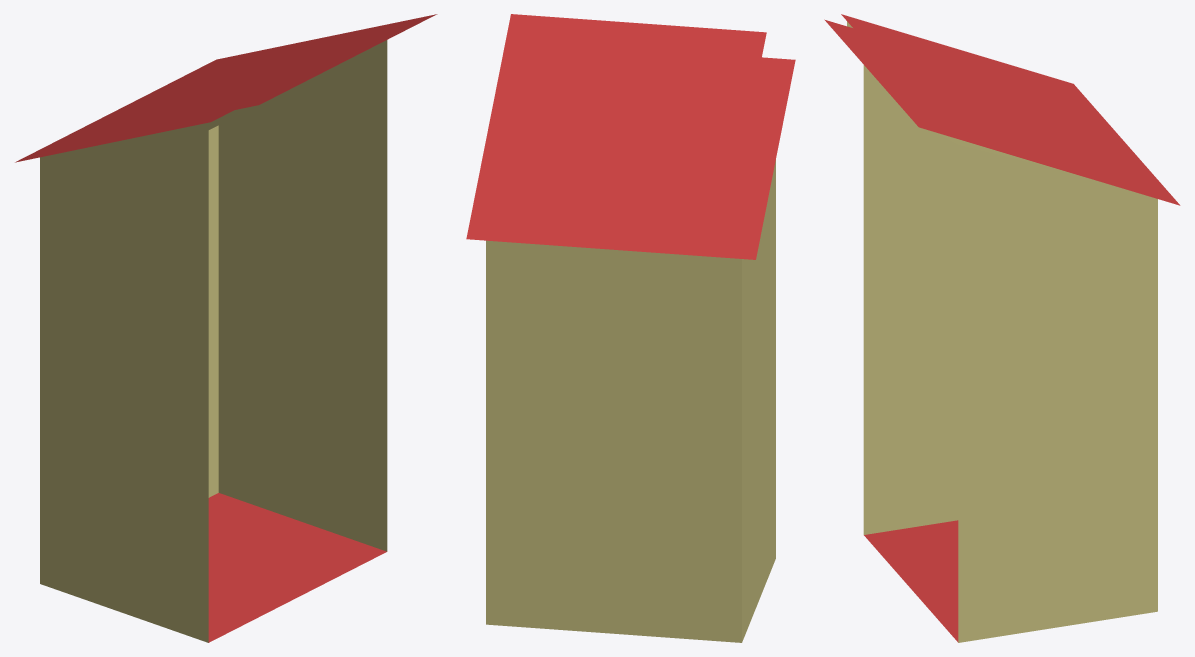
3 views of the same model, side by side, from view 1: azimuth 30°, elevation 25°; view 2: azimuth 150°, elevation 25°; view 3: azimuth 270°, elevation 25° (orthographic). The views are drawn at different scales.
Size of the model in its own units: 5.4 by 4.99 by 8.18.
